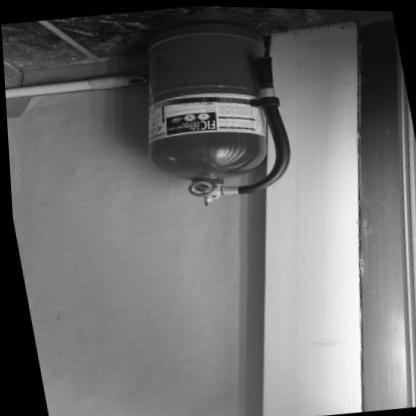FE: (127, 3, 299, 203)
